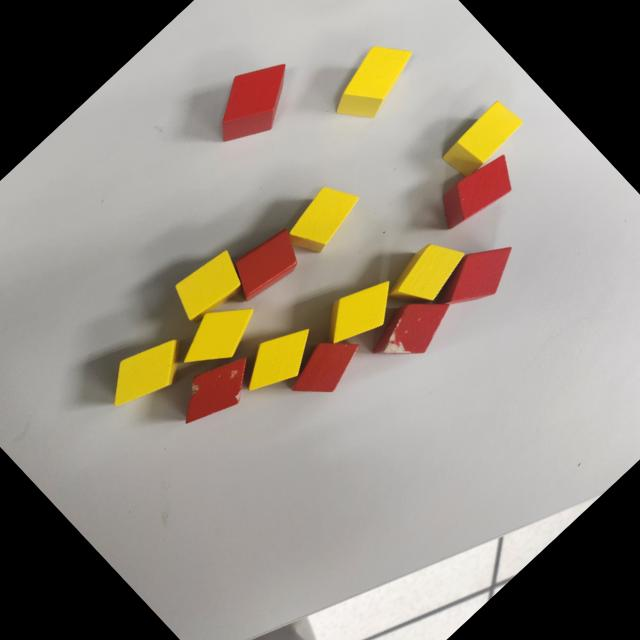broken: (360, 279, 462, 379), (167, 341, 266, 438)
red: (196, 45, 312, 159), (428, 228, 528, 325), (430, 146, 526, 240), (280, 322, 370, 412), (220, 220, 311, 308)
yellow: (320, 28, 428, 134), (95, 322, 197, 422), (166, 286, 268, 384), (230, 310, 328, 408), (312, 264, 408, 358), (380, 228, 474, 320), (280, 173, 370, 261), (440, 96, 527, 182), (166, 242, 252, 328)
